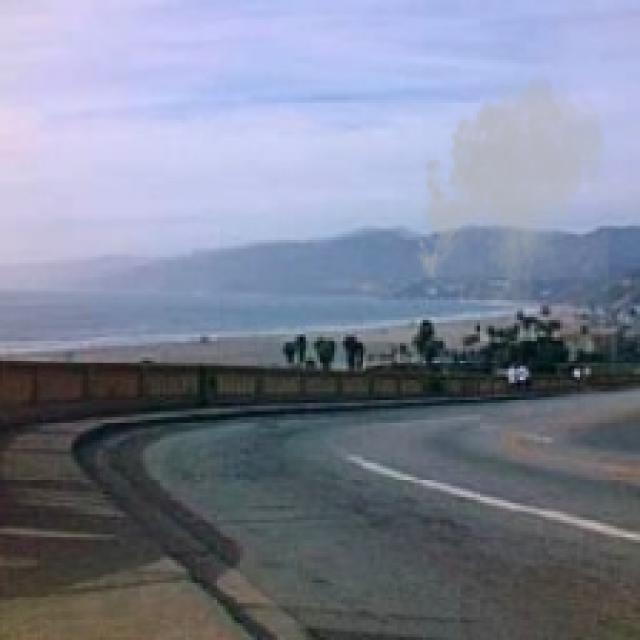Smoke: (412, 65, 612, 308)
